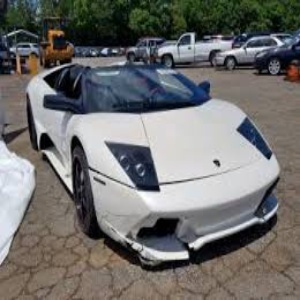bumper: (105, 202, 212, 267)
